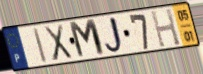7: (128, 14, 150, 51)
H: (149, 7, 182, 49)
I: (32, 26, 49, 65)
J: (103, 15, 127, 55)
M: (67, 18, 108, 61)
X: (43, 22, 74, 63)
